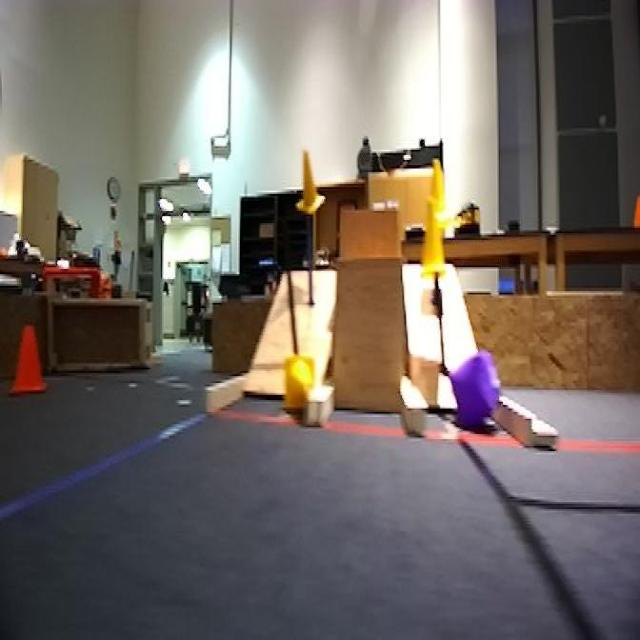frc_cone: (417, 203, 451, 279), (294, 146, 325, 218), (422, 160, 450, 221), (284, 357, 315, 407)
frc_cube: (448, 349, 499, 431)
